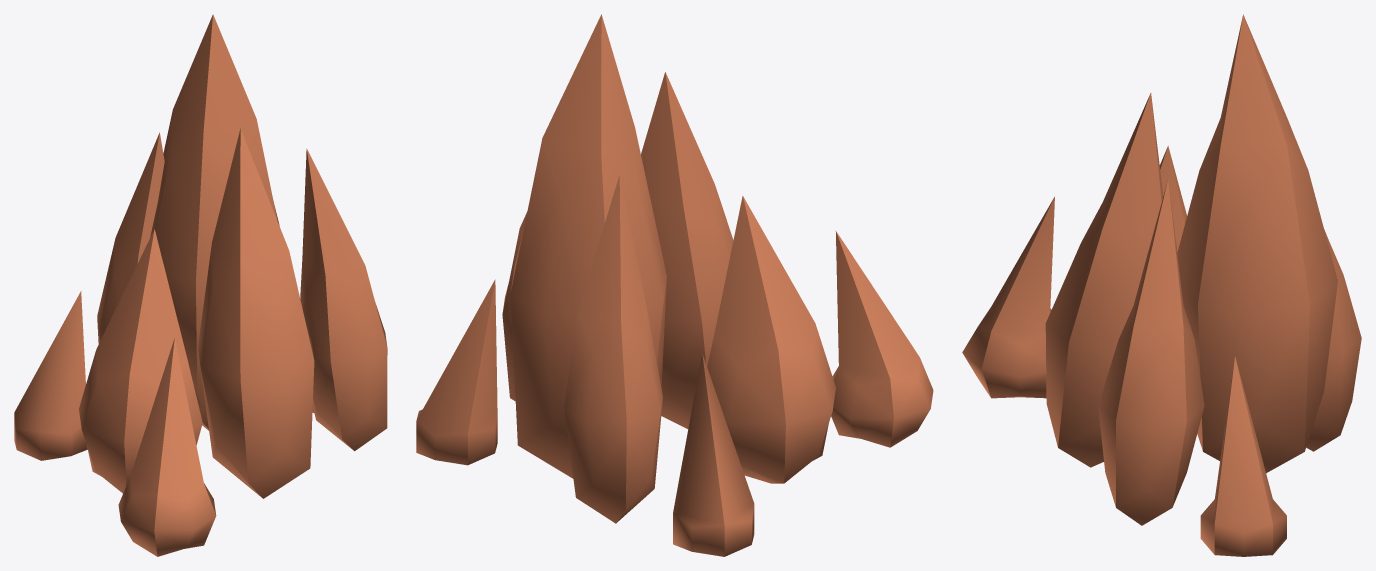
The model's file is rock05.glb.
3 views of the same model, side by side, from view 1: azimuth 30°, elevation 25°; view 2: azimuth 150°, elevation 25°; view 3: azimuth 270°, elevation 25° (orthographic). The views are drawn at different scales.
Parts seen in each view (by area): view 1: rock_05; view 2: rock_05; view 3: rock_05.
Boxes of the visible parts, <box> form: rock_05: <box>14,14,387,556</box>; rock_05: <box>416,14,933,556</box>; rock_05: <box>962,14,1361,556</box>.
Bounding box in the file's own units: 3.2 × 3.65 × 2.84.
1 material, 1 textured.
